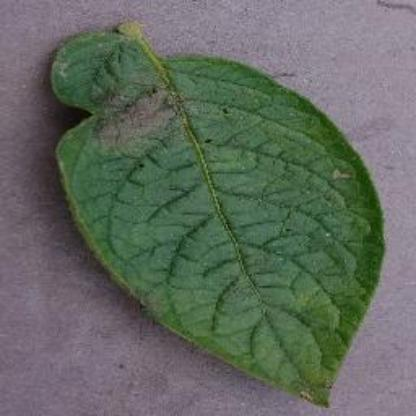Late-Blight: (16, 15, 404, 411)
